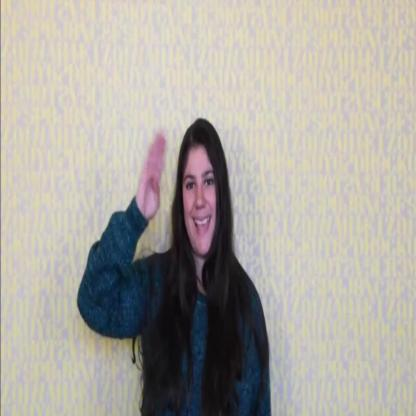Hello: (116, 95, 236, 316)
